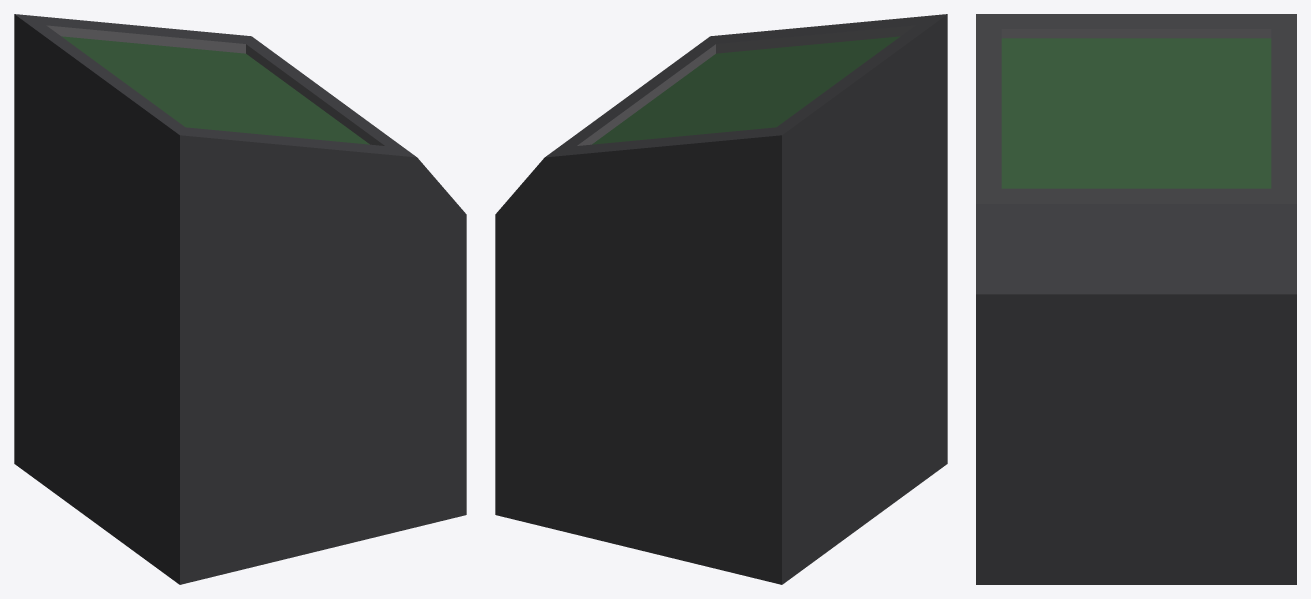
The model's file is Consola.fbx.
3 renders of one model, left to right at view 1: azimuth 30°, elevation 25°; view 2: azimuth 150°, elevation 25°; view 3: azimuth 270°, elevation 25°, orthographic. The views are drawn at different scales.
Parts seen in each view (by area): view 1: pCube1; view 2: pCube1; view 3: pCube1.
Part boxes in pixels (x1,y1,x2,y2): pCube1: (14, 14, 466, 584); pCube1: (495, 14, 947, 584); pCube1: (976, 14, 1296, 584).
Size of the model in its own units: 1 by 1.5 by 1.
